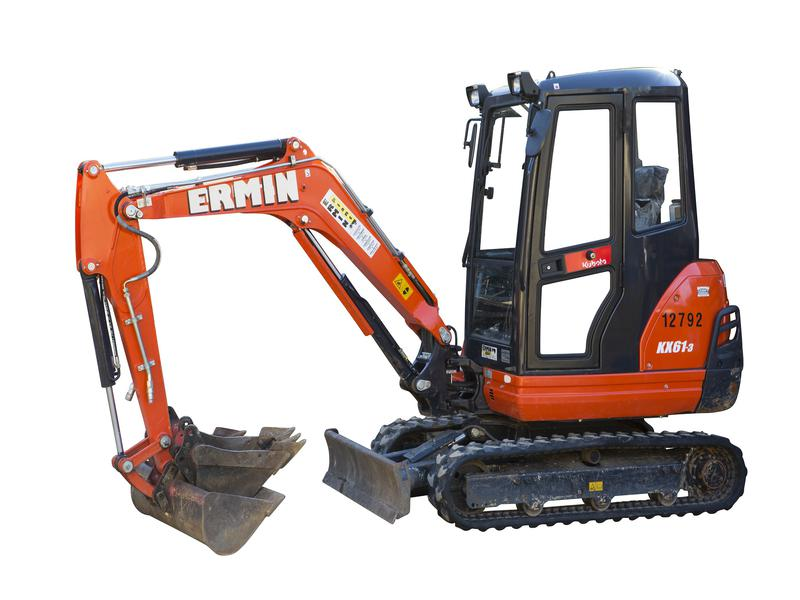shovel: (66, 59, 754, 559)
